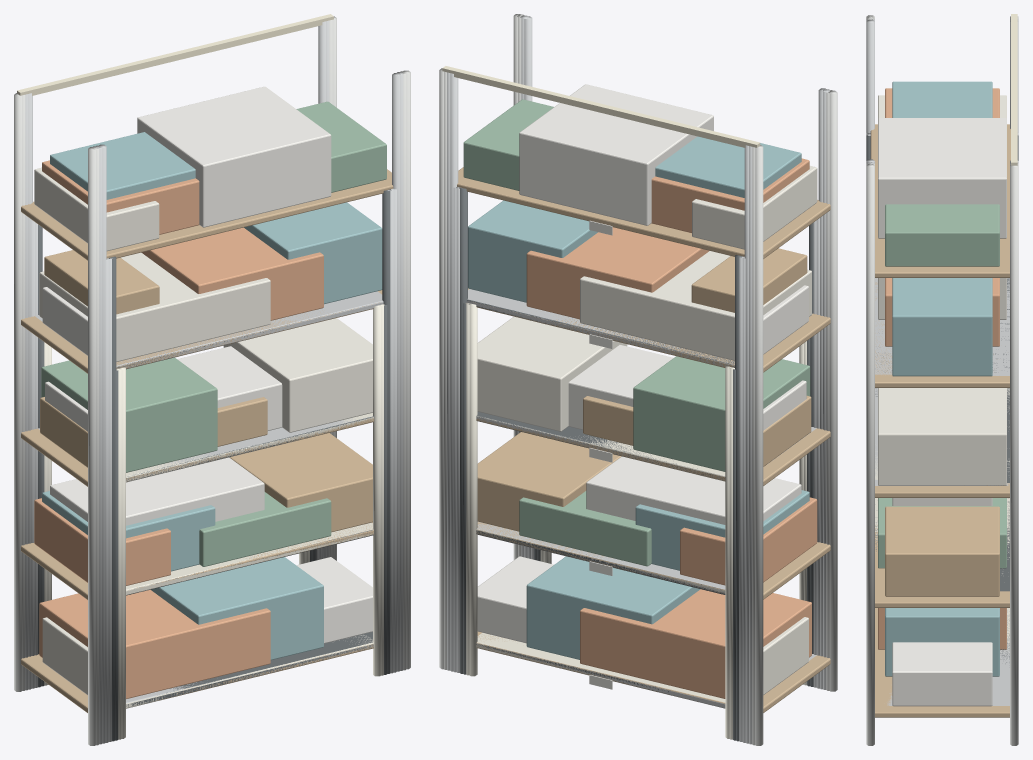
Rendered from Gear17.fbx.
3 views of the same model, side by side, from view 1: azimuth 30°, elevation 25°; view 2: azimuth 150°, elevation 25°; view 3: azimuth 270°, elevation 25° (orthographic). The views are drawn at different scales.
Parts seen in each view (by area): view 1: Gear17_V10_Chrome, Gear17_V8_Paper, Gear17_V10_Apricot, Gear17_V10_Paper, Gear17_V10_Linen, Gear17_V4_Charcoal, Gear17_V6_BrushedSteel, Gear17_V1_Ivory, Gear17_V10_Oak, Gear17_V9_Blue, Gear17_V7_BrushedSteel, Gear17_V9_Chrome (+58 smaller); view 2: Gear17_V10_Chrome, Gear17_V8_Paper, Gear17_V10_Paper, Gear17_V10_Linen, Gear17_V10_Apricot, Gear17_V10_Oak, Gear17_V6_BrushedSteel, Gear17_V7_BrushedSteel, Gear17_V9_Paper, Gear17_V5_BrushedSteel, Gear17_V4_Charcoal, Gear17_V8_BrushedSteel (+57 smaller); view 3: Gear17_V10_Paper, Gear17_V10_Linen, Gear17_V10_Chrome, Gear17_V10_Oak, Gear17_V8_Blue, Gear17_V10_Sage, Gear17_V10_Blue, Gear17_V10_Cork, Gear17_V8_Paper, Gear17_V9_Blue, Gear17_V5_Cork, Gear17_V6_BrushedSteel (+34 smaller).
Boxes of the visible parts, x1=… form: Gear17_V10_Chrome: x1=14, y1=16, x2=410, y2=745; Gear17_V8_Paper: x1=50, y1=97, x2=372, y2=632; Gear17_V10_Apricot: x1=34, y1=180, x2=311, y2=686; Gear17_V10_Paper: x1=42, y1=86, x2=372, y2=636; Gear17_V10_Linen: x1=34, y1=167, x2=372, y2=695; Gear17_V4_Charcoal: x1=38, y1=189, x2=391, y2=741; Gear17_V6_BrushedSteel: x1=31, y1=189, x2=396, y2=742; Gear17_V1_Ivory: x1=47, y1=305, x2=380, y2=738; Gear17_V10_Oak: x1=21, y1=169, x2=392, y2=712; Gear17_V9_Blue: x1=42, y1=132, x2=377, y2=659; Gear17_V7_BrushedSteel: x1=28, y1=21, x2=400, y2=743; Gear17_V9_Chrome: x1=22, y1=20, x2=406, y2=745; Gear17_V10_Chrome: x1=439, y1=14, x2=837, y2=745; Gear17_V8_Paper: x1=477, y1=97, x2=801, y2=632; Gear17_V10_Paper: x1=477, y1=84, x2=808, y2=689; Gear17_V10_Linen: x1=477, y1=166, x2=817, y2=694; Gear17_V10_Apricot: x1=539, y1=176, x2=817, y2=685; Gear17_V10_Oak: x1=457, y1=167, x2=830, y2=712; Gear17_V6_BrushedSteel: x1=453, y1=187, x2=819, y2=742; Gear17_V7_BrushedSteel: x1=450, y1=16, x2=827, y2=743; Gear17_V9_Paper: x1=477, y1=89, x2=806, y2=632; Gear17_V5_BrushedSteel: x1=456, y1=186, x2=816, y2=741; Gear17_V4_Charcoal: x1=459, y1=187, x2=813, y2=741; Gear17_V8_BrushedSteel: x1=447, y1=15, x2=830, y2=744; Gear17_V10_Paper: x1=878, y1=153, x2=1006, y2=706; Gear17_V10_Linen: x1=878, y1=95, x2=1006, y2=485; Gear17_V10_Chrome: x1=866, y1=15, x2=1018, y2=745; Gear17_V10_Oak: x1=870, y1=124, x2=1010, y2=717; Gear17_V8_Blue: x1=885, y1=81, x2=999, y2=676; Gear17_V10_Sage: x1=878, y1=207, x2=1006, y2=568; Gear17_V10_Blue: x1=885, y1=285, x2=999, y2=610; Gear17_V10_Cork: x1=885, y1=529, x2=999, y2=596; Gear17_V8_Paper: x1=878, y1=118, x2=1006, y2=663; Gear17_V9_Blue: x1=892, y1=114, x2=992, y2=313; Gear17_V5_Cork: x1=885, y1=508, x2=999, y2=544; Gear17_V6_BrushedSteel: x1=866, y1=132, x2=1018, y2=705.
Bounding box in the file's own units: 113 × 201 × 47.8.
